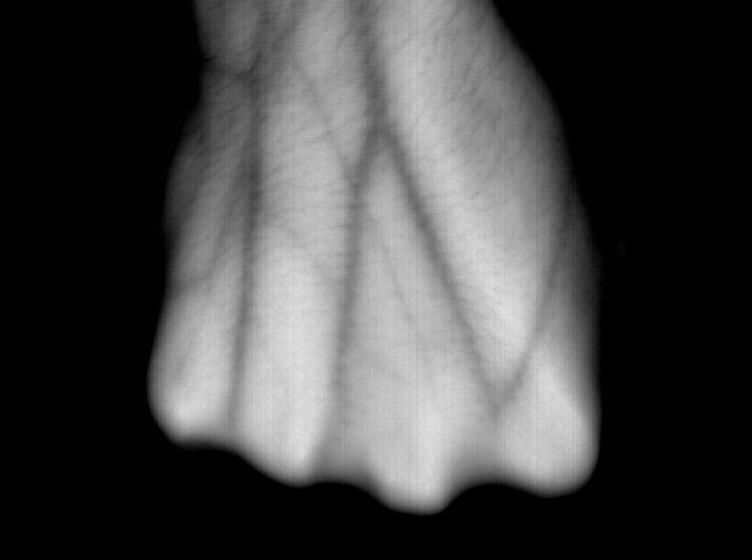Vein: (336, 10, 489, 396)
